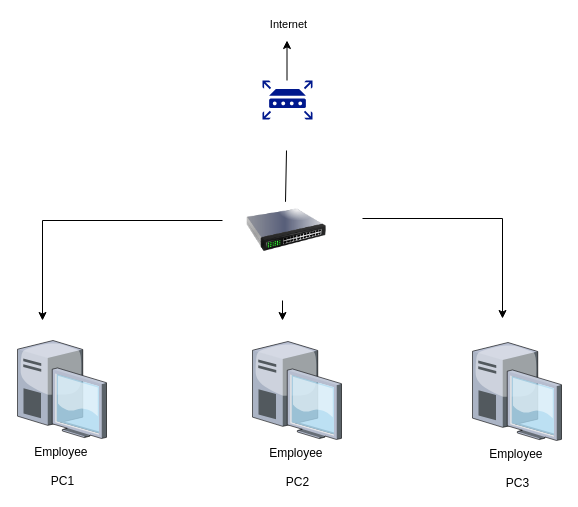
This 578x507 diagram has some shape labels left out. Here are the shapes that lost their labels. From the top down, the box of each, then its label:
(262, 80, 312, 119): Office Router
(246, 190, 326, 270): Main Switch
